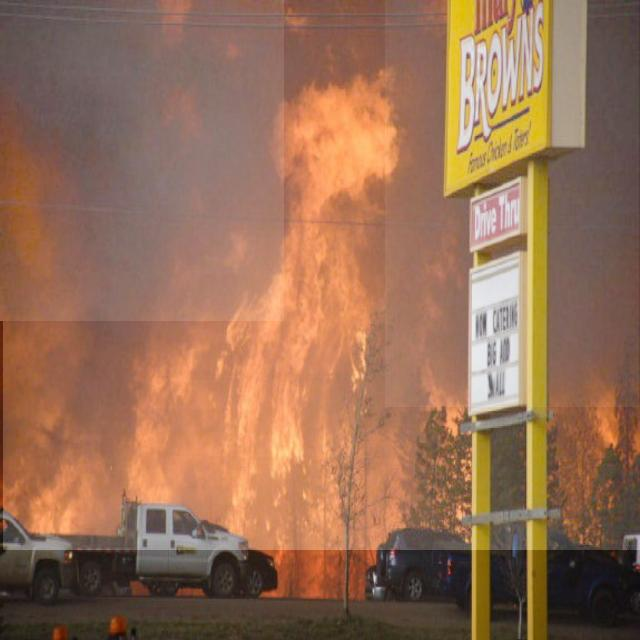Fire: (3, 0, 640, 550)
Smoke: (385, 0, 639, 407), (0, 0, 284, 321)
